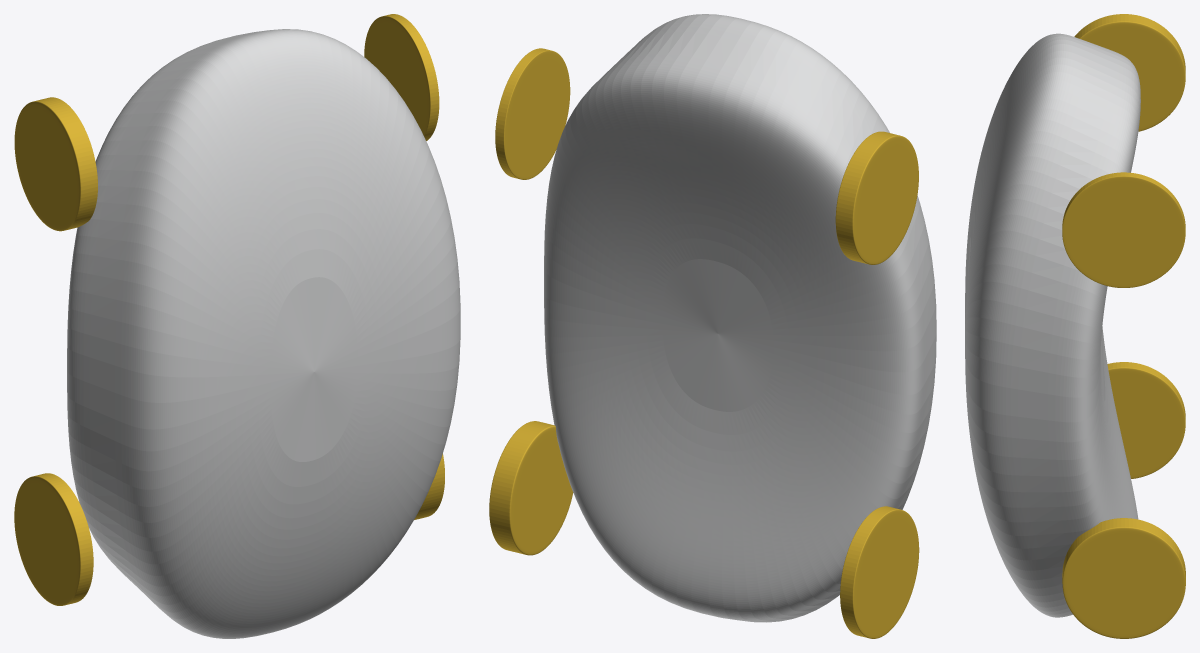
The model's file is 17_f1_car_sq.glb.
3 views of the same model, side by side, from view 1: azimuth 30°, elevation 25°; view 2: azimuth 150°, elevation 25°; view 3: azimuth 270°, elevation 25° (orthographic). The views are drawn at different scales.
Parts seen in each view (by area): view 1: superquadric_0, superquadric_2, superquadric_1, superquadric_4, superquadric_3; view 2: superquadric_0, superquadric_2, superquadric_3, superquadric_1, superquadric_4; view 3: superquadric_0, superquadric_3, superquadric_4, superquadric_1, superquadric_2.
Boxes of the visible parts, x1,y1,x2,y2 form: superquadric_0: [67, 29, 460, 638]; superquadric_2: [14, 97, 97, 231]; superquadric_1: [14, 473, 93, 605]; superquadric_4: [364, 14, 439, 140]; superquadric_3: [414, 453, 444, 519]; superquadric_0: [544, 14, 936, 622]; superquadric_2: [835, 131, 918, 264]; superquadric_3: [489, 421, 573, 555]; superquadric_1: [840, 506, 919, 638]; superquadric_4: [495, 48, 570, 179]; superquadric_0: [965, 33, 1140, 617]; superquadric_3: [1062, 518, 1185, 638]; superquadric_4: [1062, 172, 1185, 287]; superquadric_1: [1107, 362, 1185, 478]; superquadric_2: [1074, 14, 1185, 131].
Size of the model in its own units: 0.653 by 1 by 0.3616.
